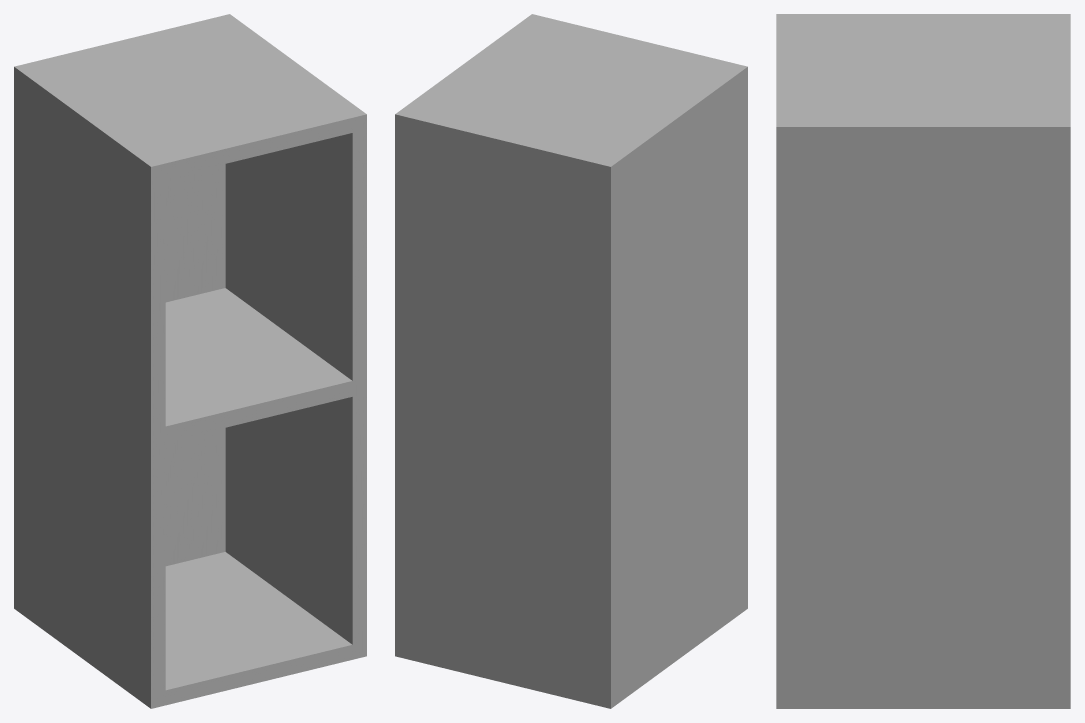
The picture shows the model from 3 angles, left to right: view 1: azimuth 30°, elevation 25°; view 2: azimuth 150°, elevation 25°; view 3: azimuth 270°, elevation 25°; orthographic projection. The views are drawn at different scales.
Parts seen in each view (by area): view 1: Box001; view 2: Box001; view 3: Box001.
Part boxes in pixels (left/top/right/bottom): Box001: left=14, top=14, right=366, bottom=708; Box001: left=395, top=14, right=747, bottom=708; Box001: left=776, top=14, right=1070, bottom=708.
Size of the model in its own units: 0.3 by 0.72 by 0.33.
Materials: 1 (1 with a texture image).
